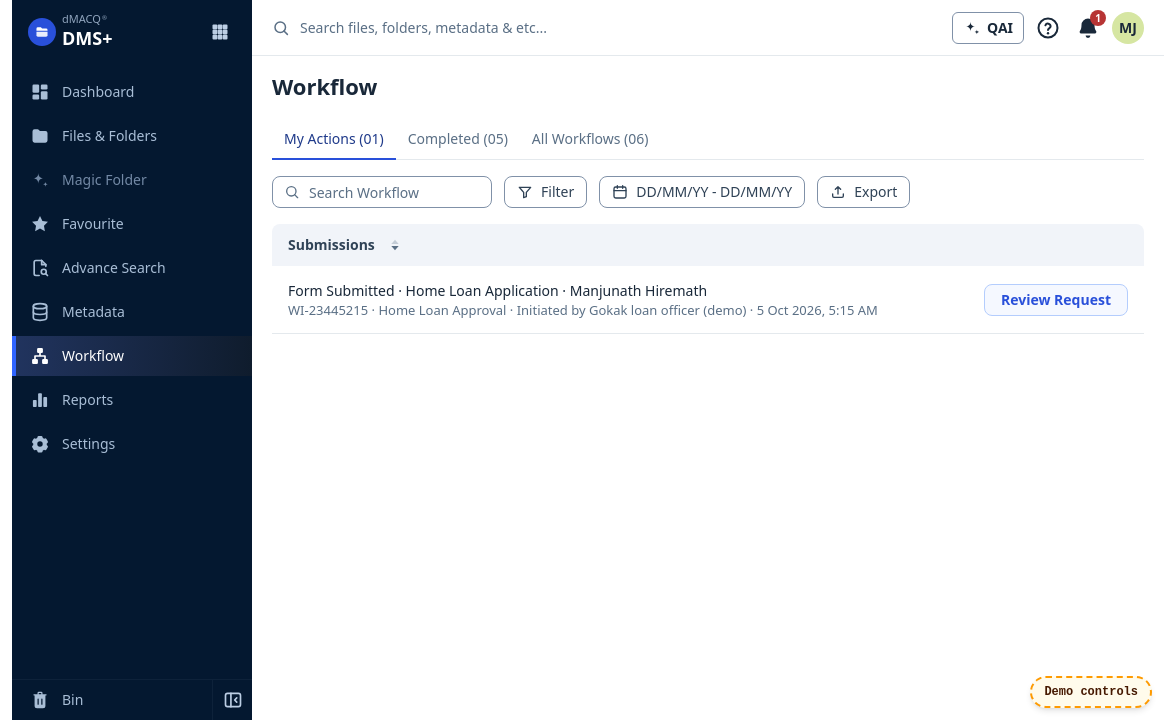
Test: a row › leaves the app shell for the review screen
This screenshot has width=1176, height=720.
Click the link "Review Request" at (1056, 300), box top-left (984, 284), bottom-right (1128, 316)
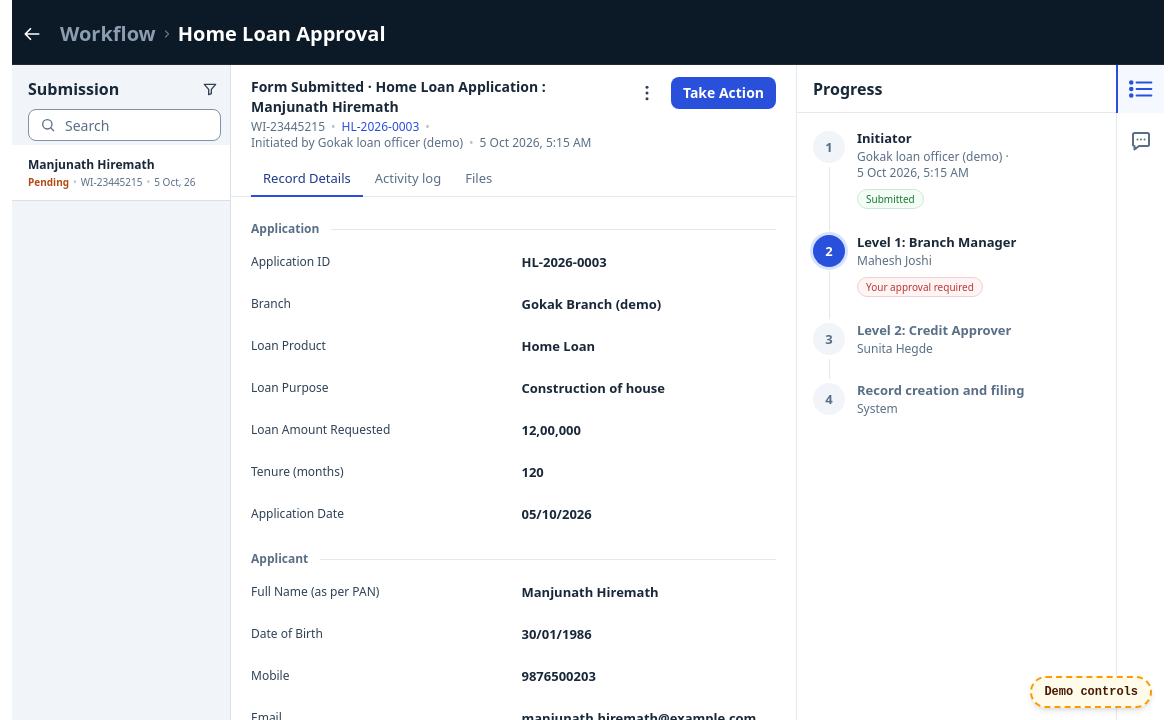
Check: the button "Sidebar" is gone
Click the link named "Back to Workflow" at (32, 34), box top-left (23, 25), bottom-right (41, 43)
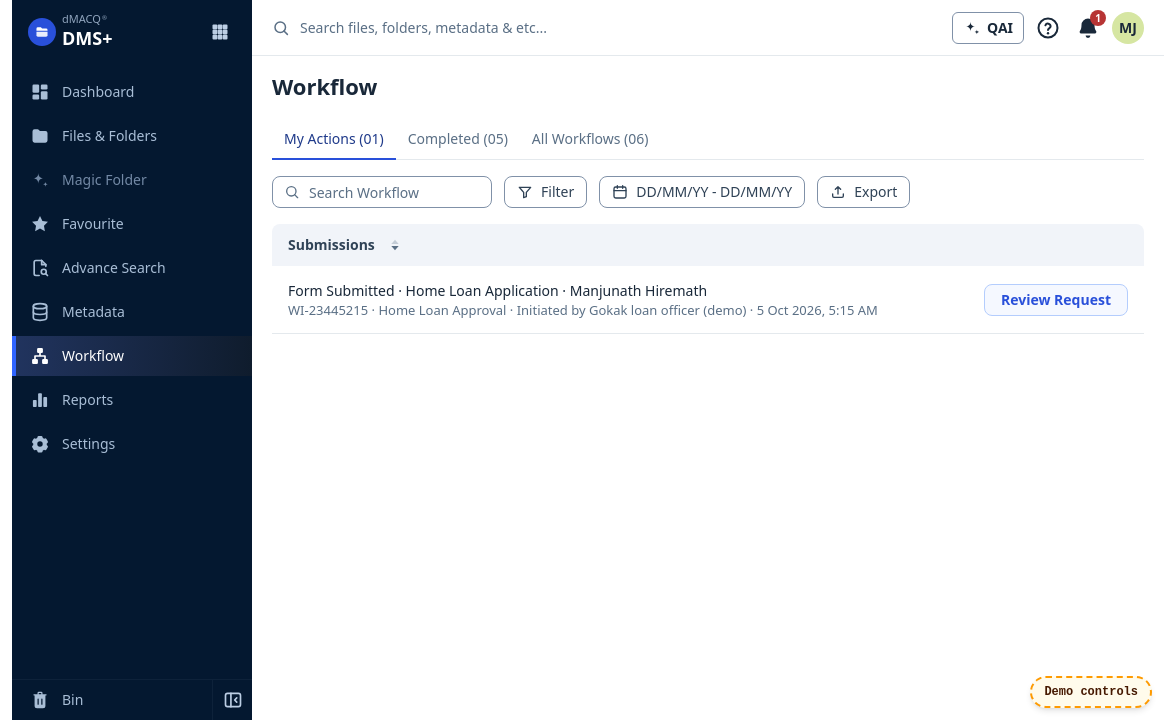
Check: the element named "Sidebar" is shown, box top-left (12, 0), bottom-right (252, 719)
